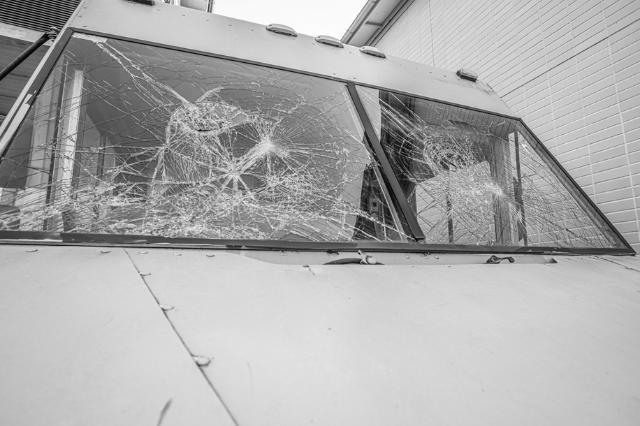Windshield: (35, 38, 585, 250)
